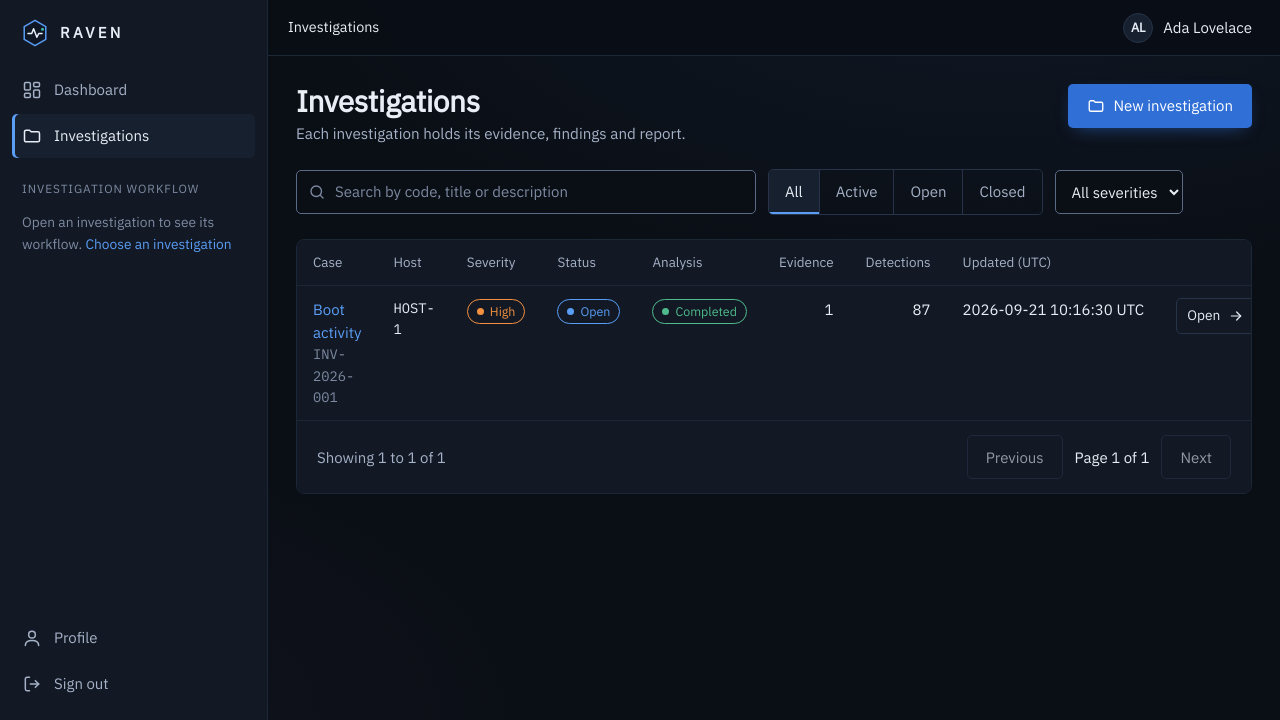
Test: Investigations list › says when nothing matches and can clear the filters
Expected: the table is shown, [297, 240, 1252, 420]
Step 1. Click the button "Closed" → (1002, 192), box [964, 170, 1042, 214]
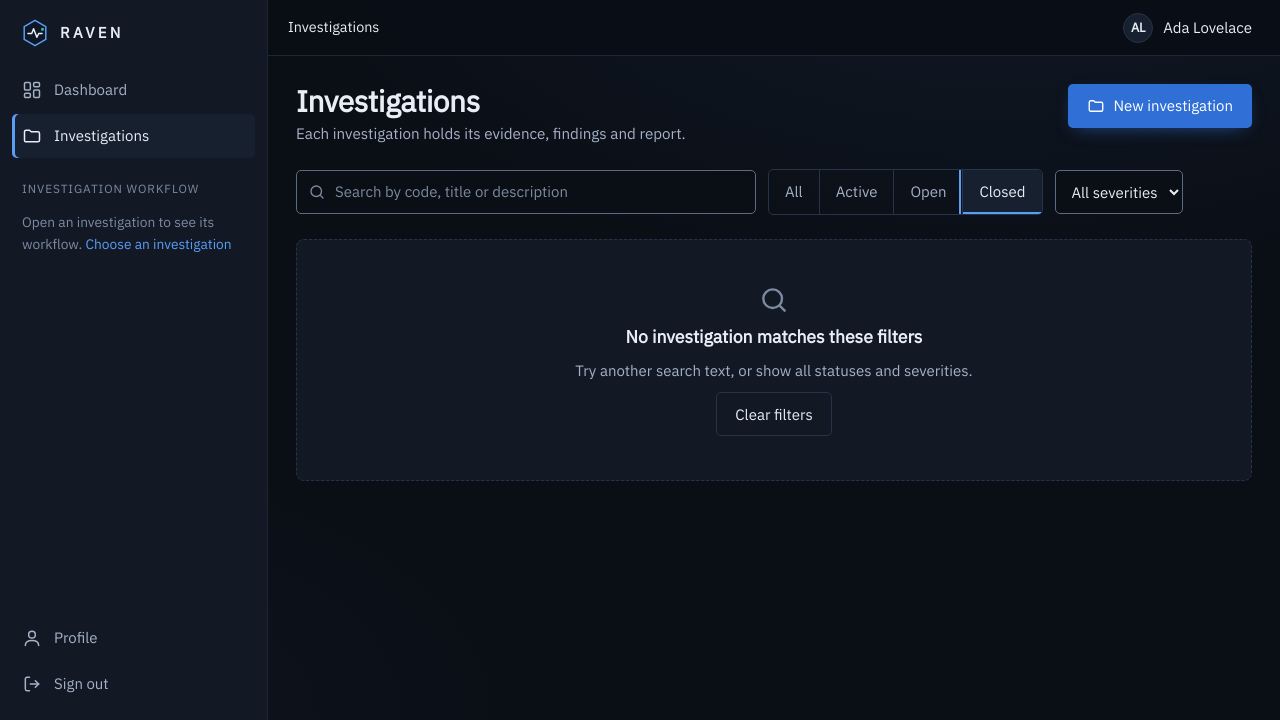
Result: the heading "No investigation matches these filters" is shown at [626, 326, 922, 349]
Step 2. Click the button "Clear filters" → (774, 414), box [716, 392, 832, 436]
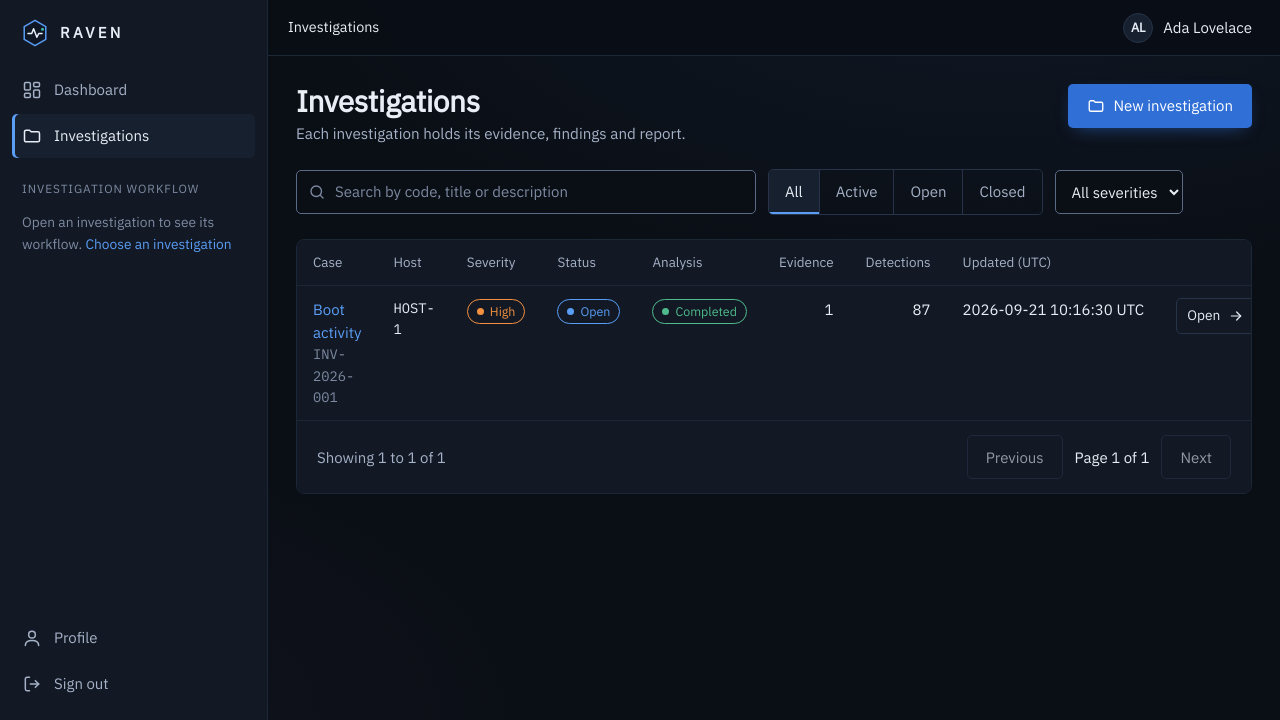
Result: the table is shown at [297, 240, 1252, 420]
